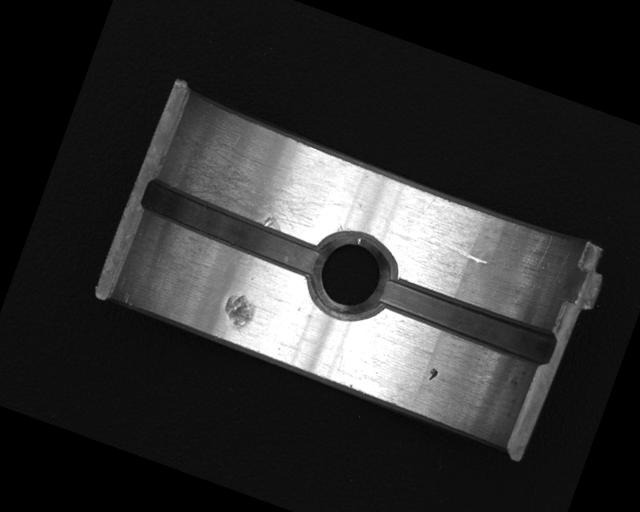bruise: (216, 287, 258, 334), (425, 365, 440, 385)
gap: (136, 175, 331, 281), (373, 271, 559, 368)
hole: (298, 220, 403, 331)
nick: (428, 232, 492, 267)
scratch: (167, 119, 351, 250)
